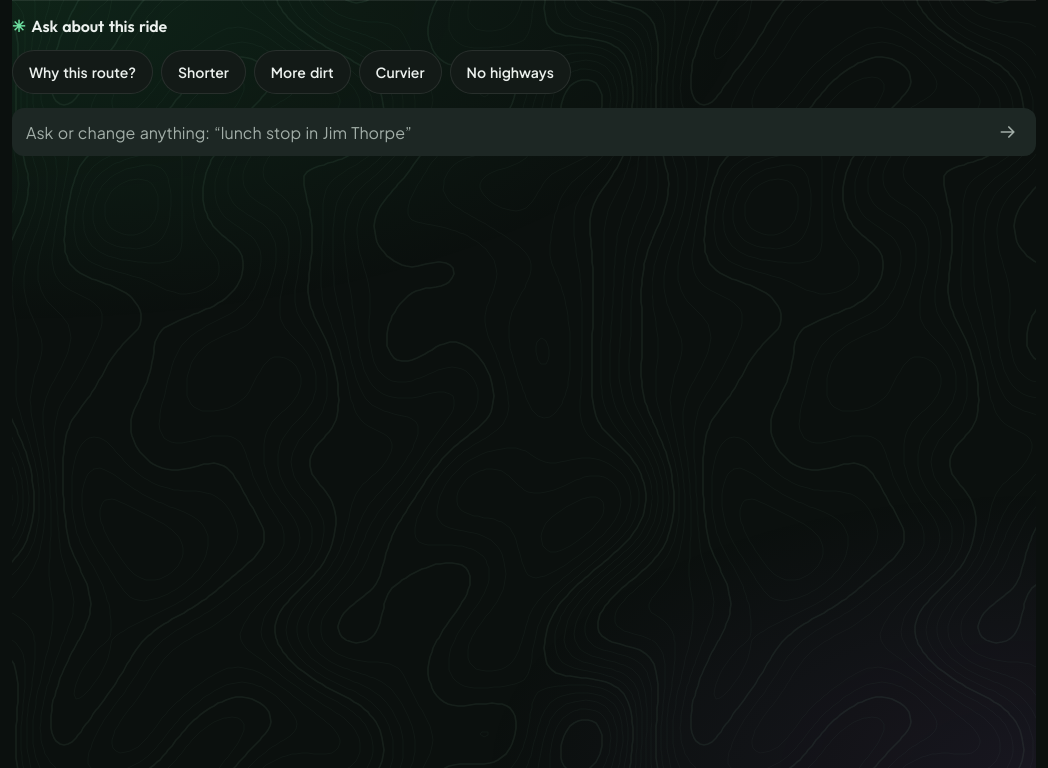
ask about this ride › sends a one-tap ask and shows the answer under the ride, not in the composer
Click the button "Shorter": [203, 72] box [161,50,246,94]
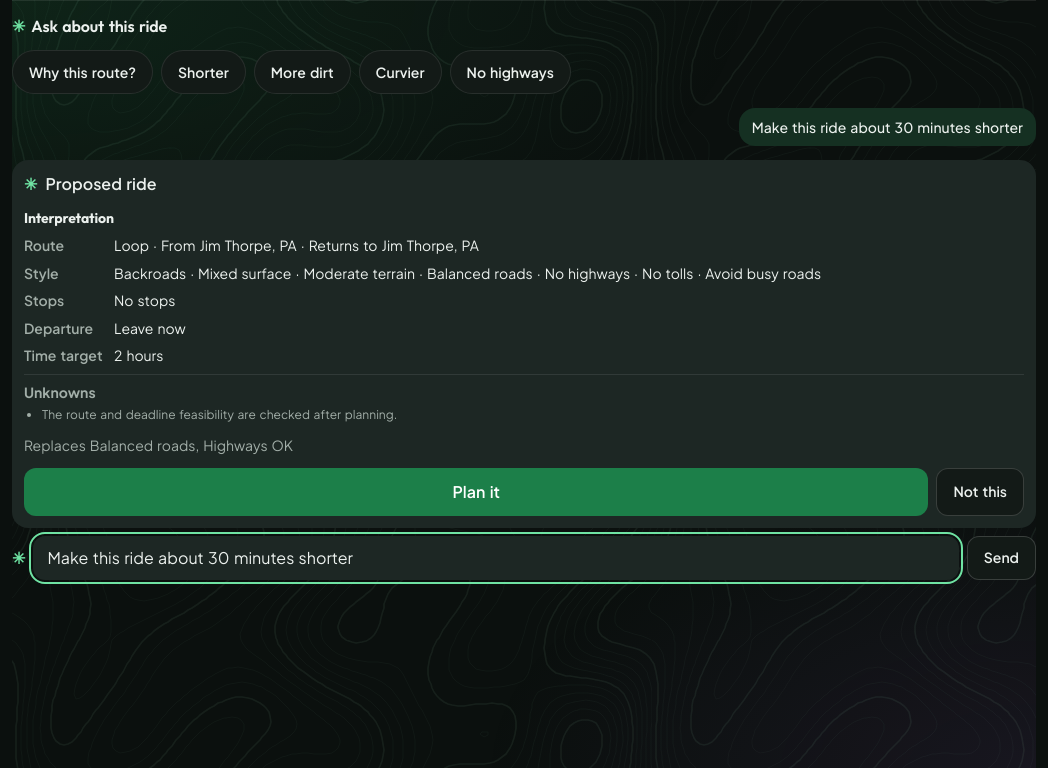
Expected: the number of elements with test id "advisor-proposal" is 1, [12,160,1036,528]
